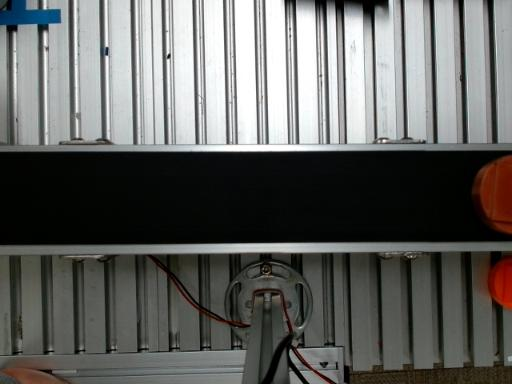Brown_Waper: (472, 155, 511, 234)
